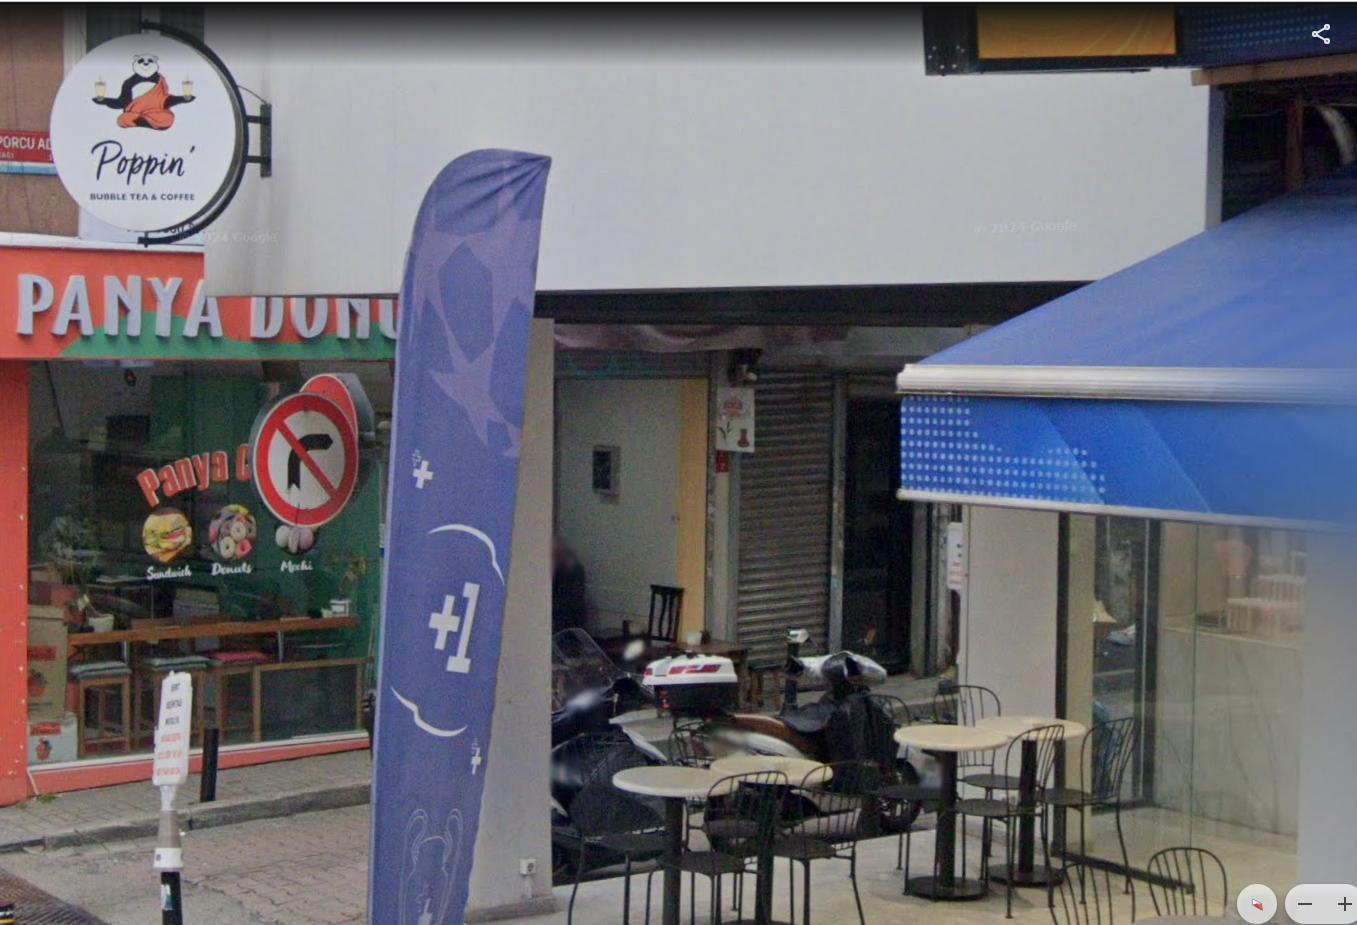rightturnsareforbidden: (254, 389, 355, 521)
